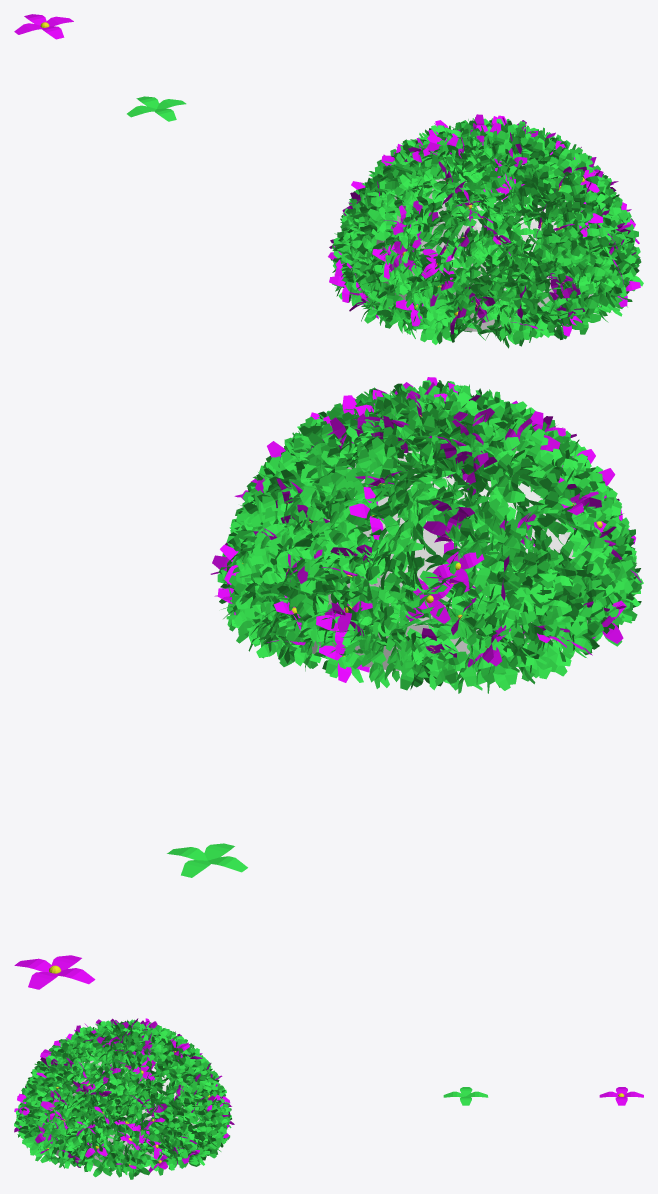
File: Flowery Shrub.fbx
3 renders of one model, top to bottom at view 1: azimuth 30°, elevation 25°; view 2: azimuth 150°, elevation 25°; view 3: azimuth 270°, elevation 25°, orthographic. The views are drawn at different scales.
Visible parts, largest first — view 1: Flowe+Leafy Shrub, Flower, Leaf; view 2: Flowe+Leafy Shrub, Leaf, Flower, Flowe+Leafy Shrub|Flower|Dupli|65.1, Flowe+Leafy Shrub|Flower|Dupli|91.1; view 3: Flowe+Leafy Shrub, Leaf, Flower.
Part boxes in pixels (<box>): Flowe+Leafy Shrub: <box>361,165,600,331</box>; Flower: <box>14,14,73,39</box>; Leaf: <box>127,96,186,121</box>; Flowe+Leafy Shrub: <box>312,450,587,670</box>; Leaf: <box>167,843,247,877</box>; Flower: <box>14,955,95,989</box>; Flowe+Leafy Shrub|Flower|Dupli|65.1: <box>432,541,484,592</box>; Flowe+Leafy Shrub|Flower|Dupli|91.1: <box>406,578,453,624</box>; Flowe+Leafy Shrub: <box>55,1048,199,1166</box>; Leaf: <box>443,1087,488,1105</box>; Flower: <box>599,1087,643,1105</box>.
Bounding box in the file's own units: 237 × 132 × 666.
